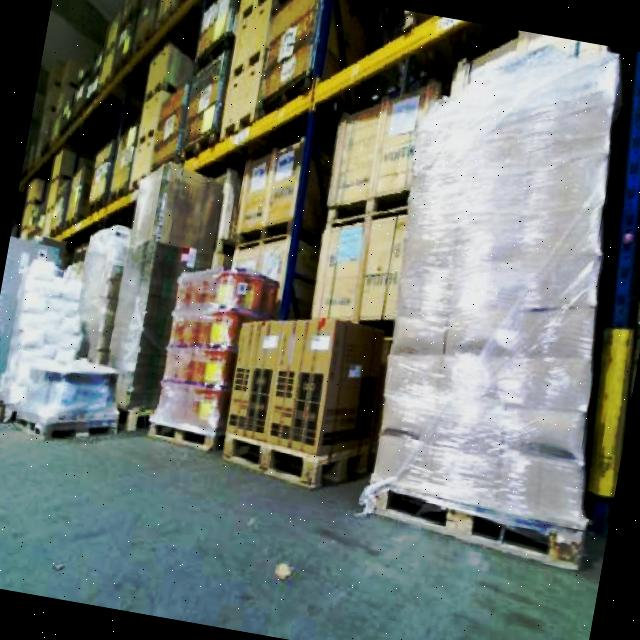ground: (0, 395, 613, 640)
pallet: (349, 16, 640, 571), (214, 300, 397, 499), (146, 256, 283, 458), (0, 228, 69, 438)
